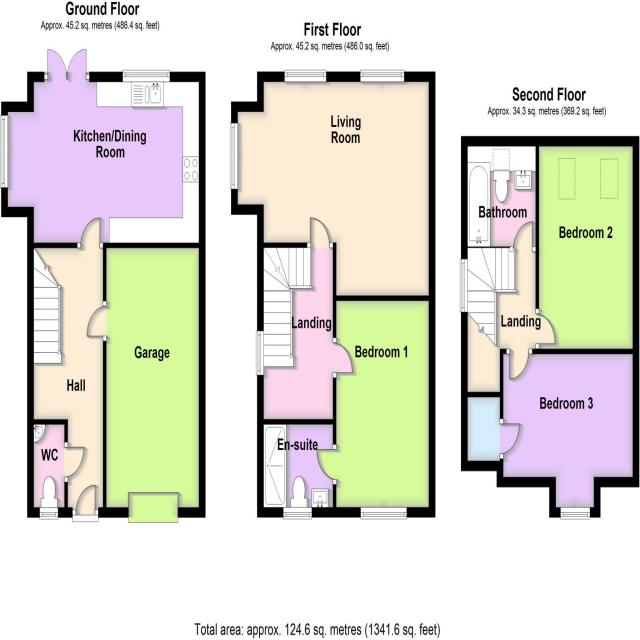DOOR: (62, 443, 85, 482), (331, 340, 355, 377), (314, 446, 338, 483), (79, 214, 102, 252), (74, 481, 97, 519), (309, 213, 332, 251), (498, 421, 522, 457), (507, 351, 531, 383), (84, 303, 105, 339), (537, 311, 557, 347), (512, 218, 534, 250)
DOUBLE DOOR: (41, 42, 91, 81)
ROOM: (229, 69, 437, 302), (0, 45, 207, 251), (314, 295, 436, 520), (26, 214, 108, 520), (497, 348, 640, 519), (534, 135, 640, 354)
WINDOW: (121, 66, 172, 85), (228, 120, 240, 192), (359, 66, 406, 84), (0, 112, 10, 192), (358, 506, 408, 522), (283, 67, 328, 83), (458, 258, 469, 315), (254, 328, 266, 377), (559, 505, 592, 521), (282, 505, 313, 521), (37, 505, 61, 523)
